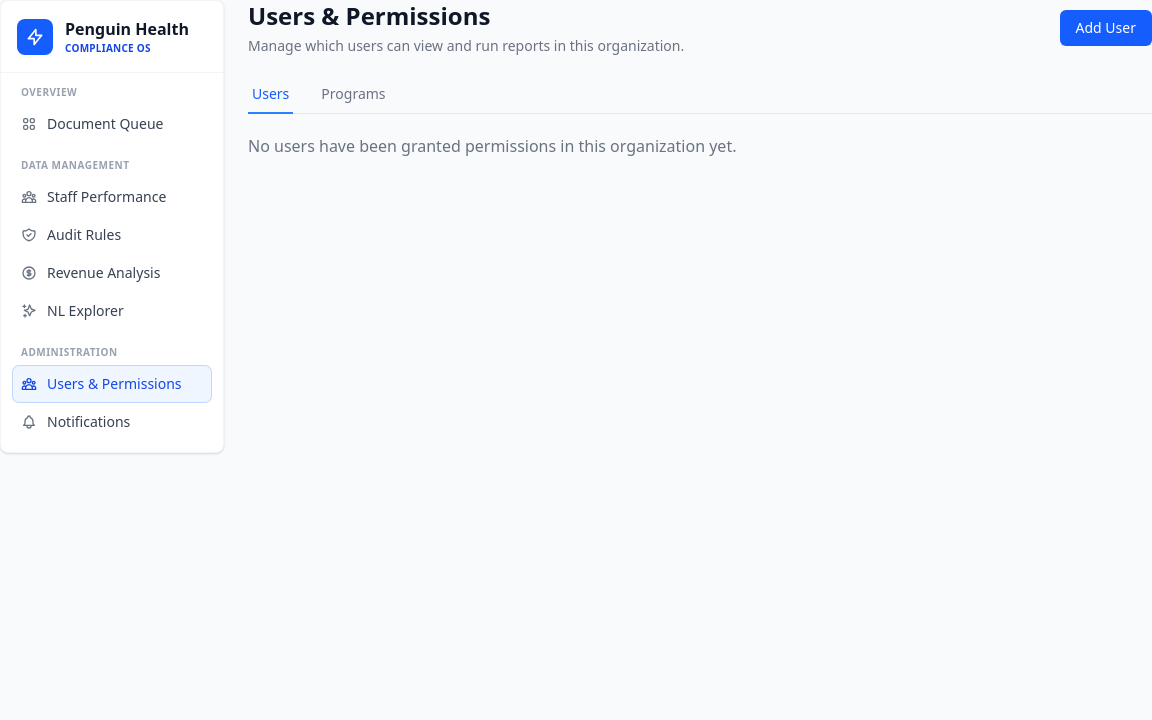
it: UsersPage › creates a new user via the Add User modal
This screenshot has width=1152, height=720.
expect the text "No users have been granted permissions" is shown: met, box [248,135,736,157]
Step 1. Click the button "Add User" → (1106, 28), box [1060,10,1151,46]
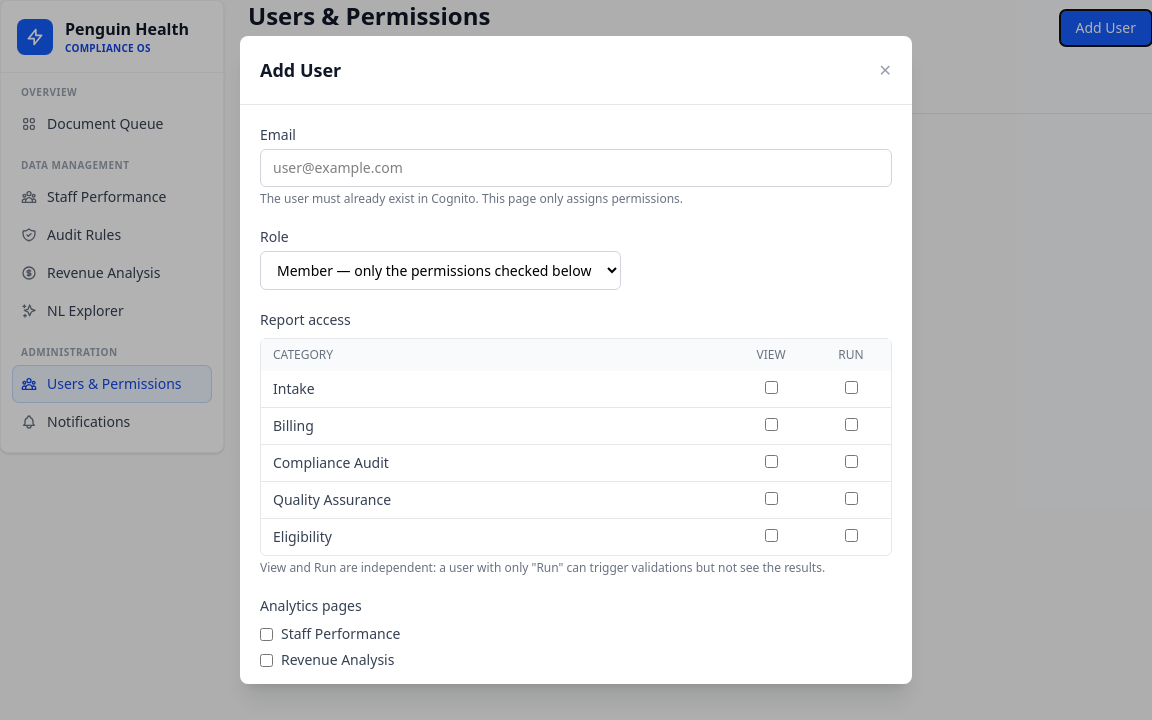
Step 2. Type "new@clinic.com" into the field with placeholder "user@example.com" → (576, 168), box [260,149,892,187]
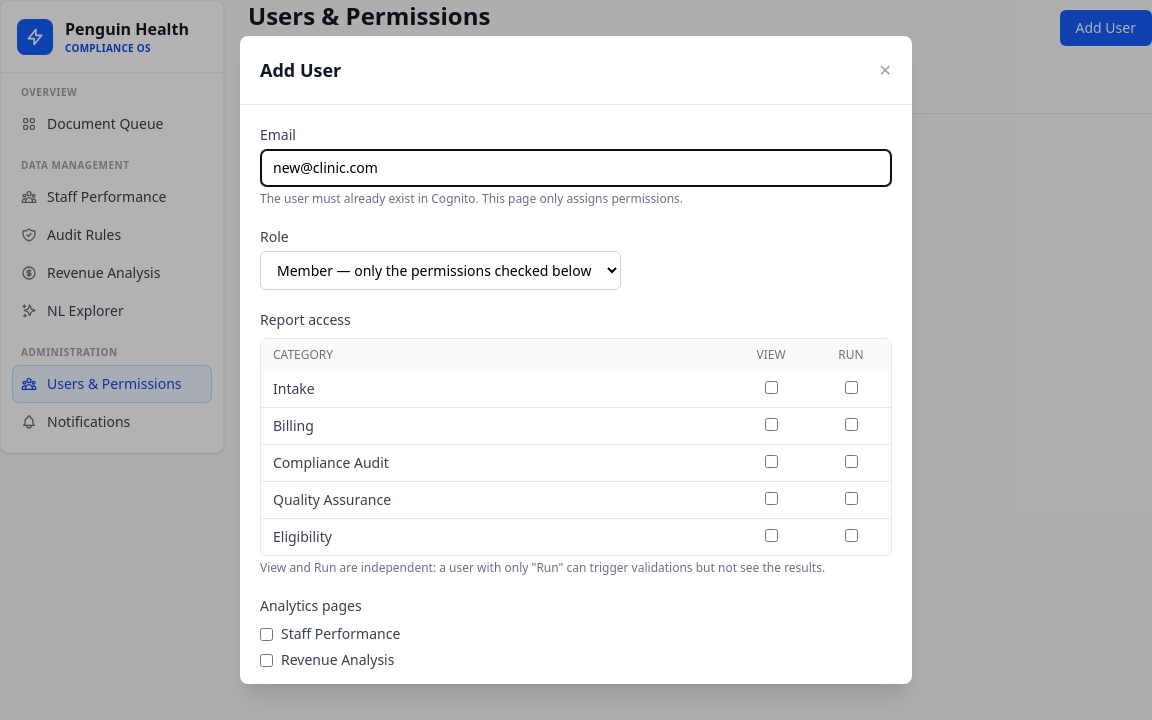
Step 3. Click the checkbox named "Billing view" → (771, 424), box [764,418,778,431]
(page scrolled)
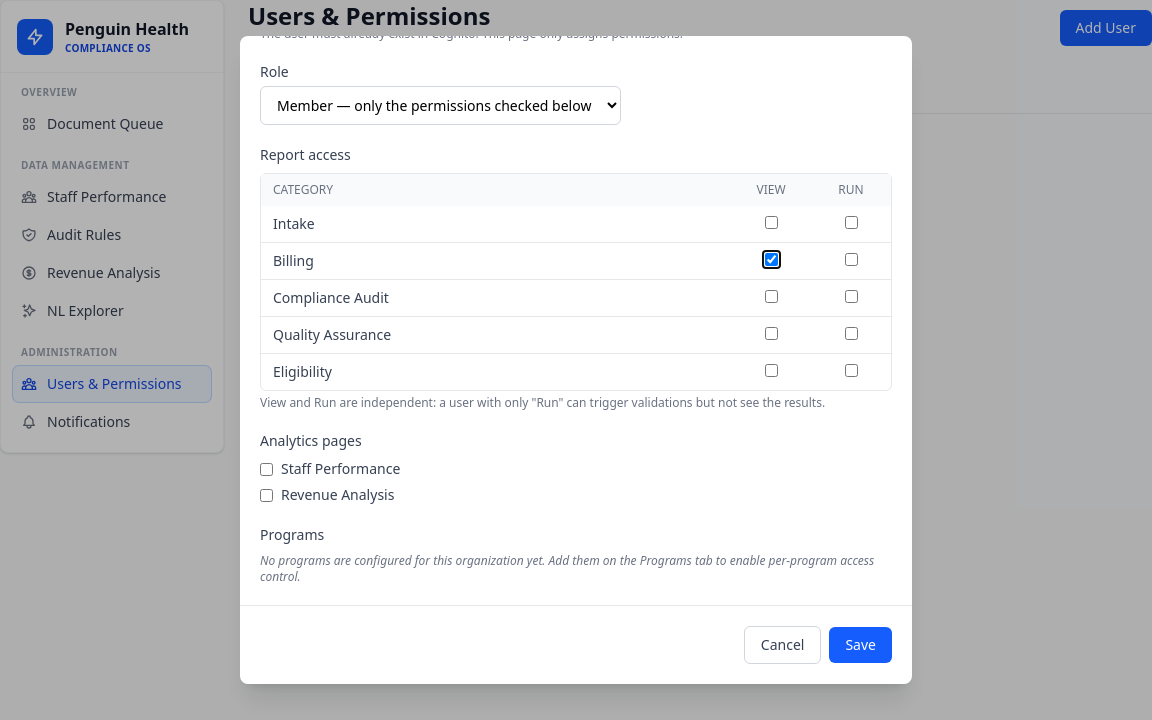
Step 4. Click the button "Save" → (861, 645), box [829,627,892,663]
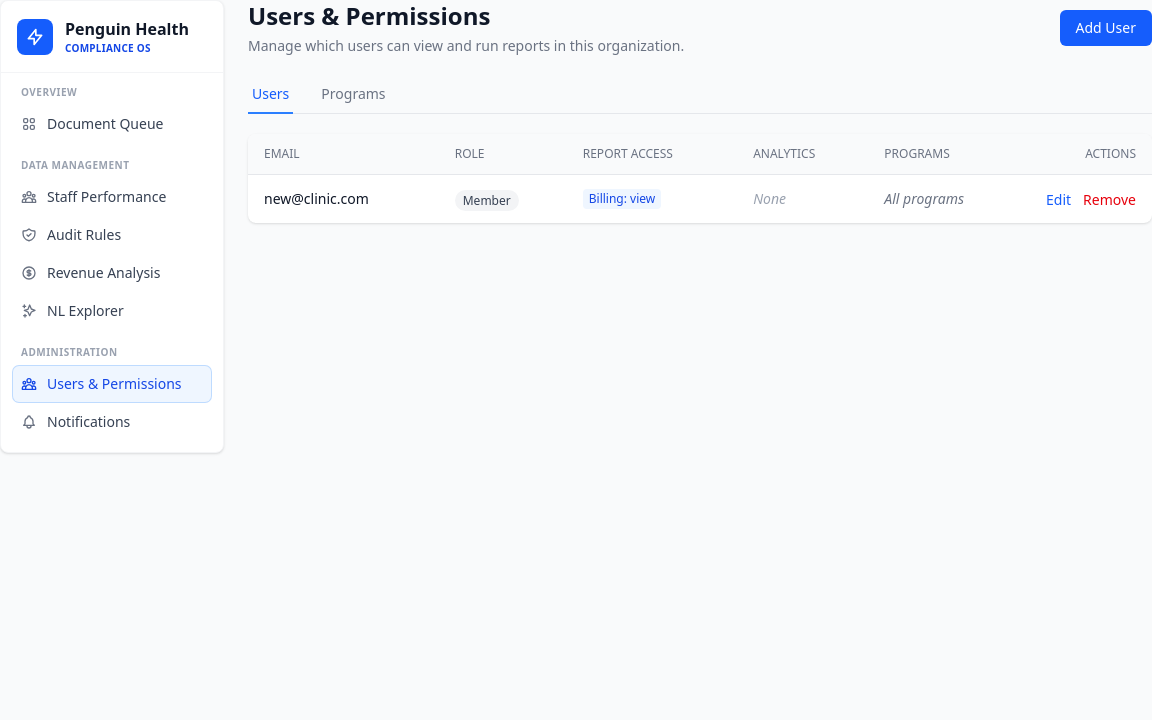
expect the text "new@clinic.com" is shown: met, box [248,174,439,223]
expect the text "Billing: view" is shown: met, box [583,189,661,209]
